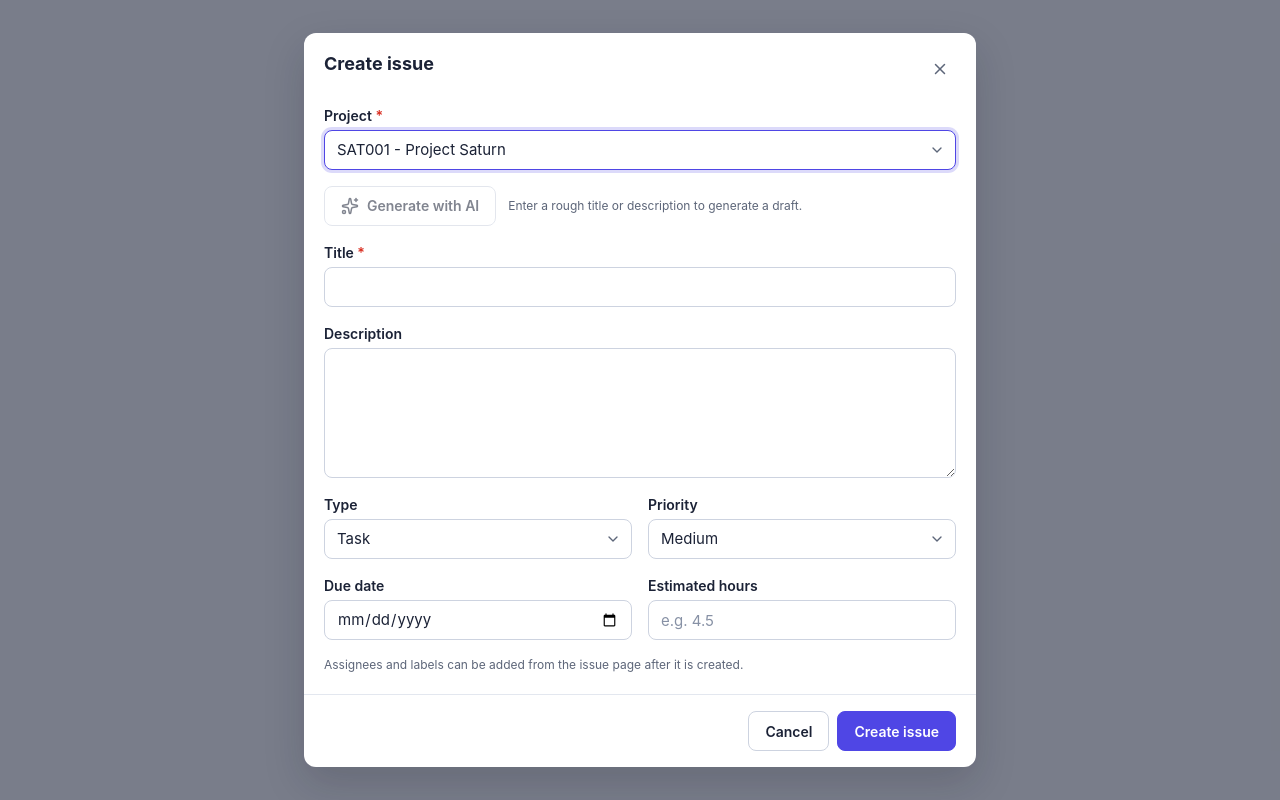
it: AI issue assistant in the create issue form › sends the selected project, title and description to the backend
Select "JUP001 - Mission Jupitor" in the dropdown labelled "Project *". click: [640, 150]
box: [324, 130, 956, 170]
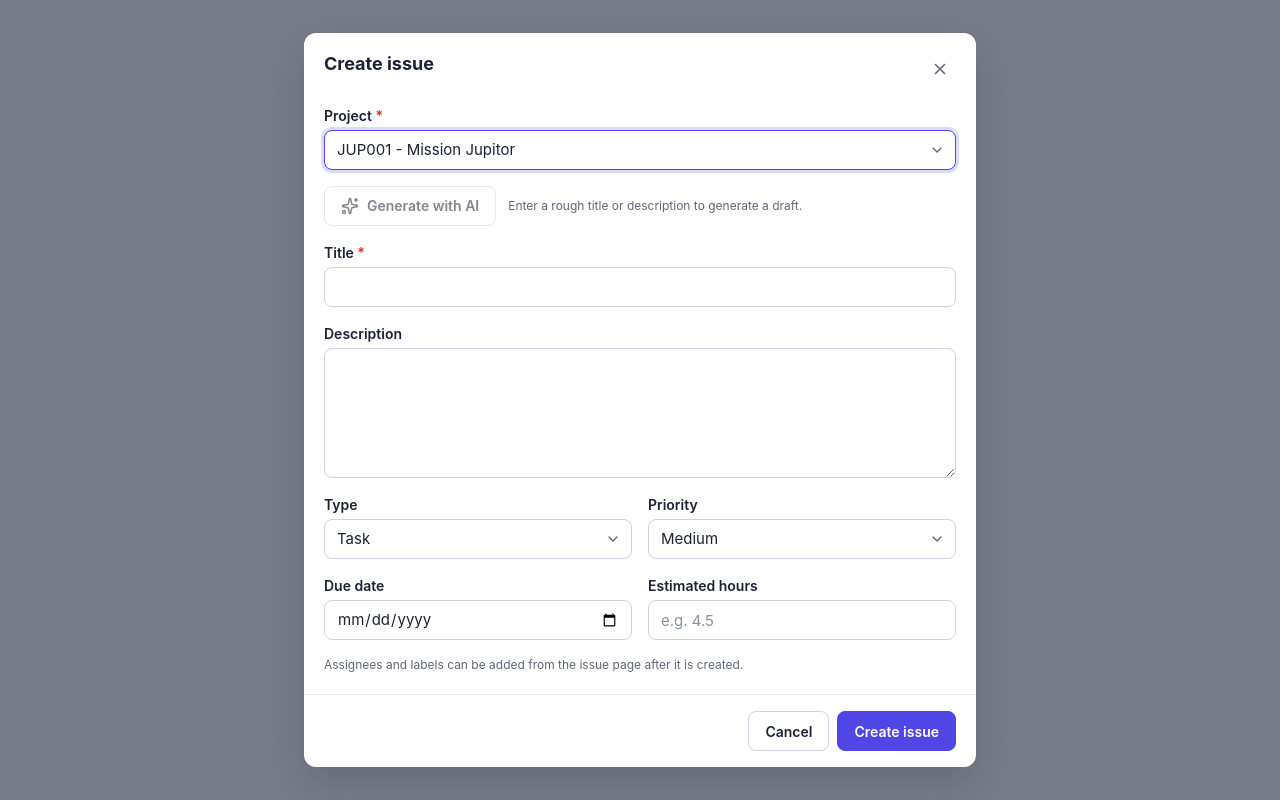
Type "Login bug" into the field labelled "Title *". click: [640, 287]
box: [324, 267, 956, 307]
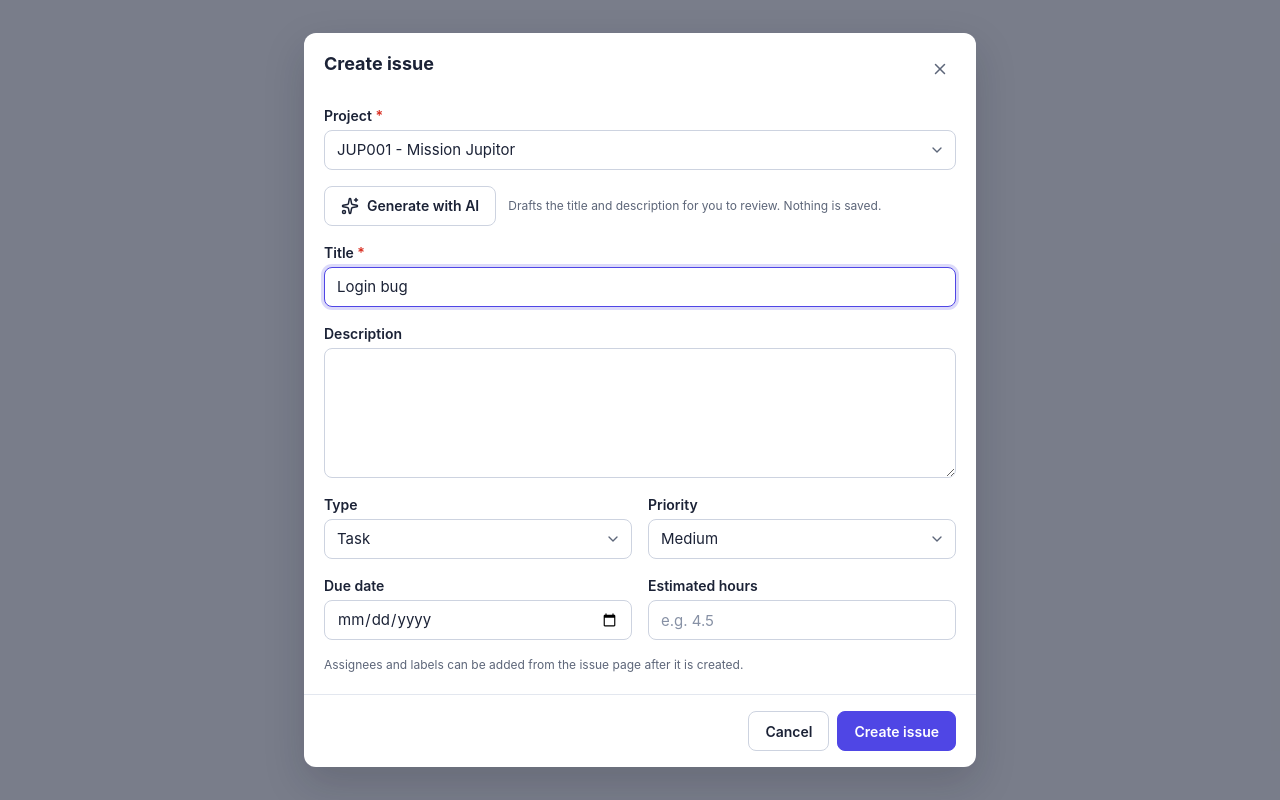
Type "login crashes" into the text box labelled "Description". click: [640, 413]
box: [324, 348, 956, 478]
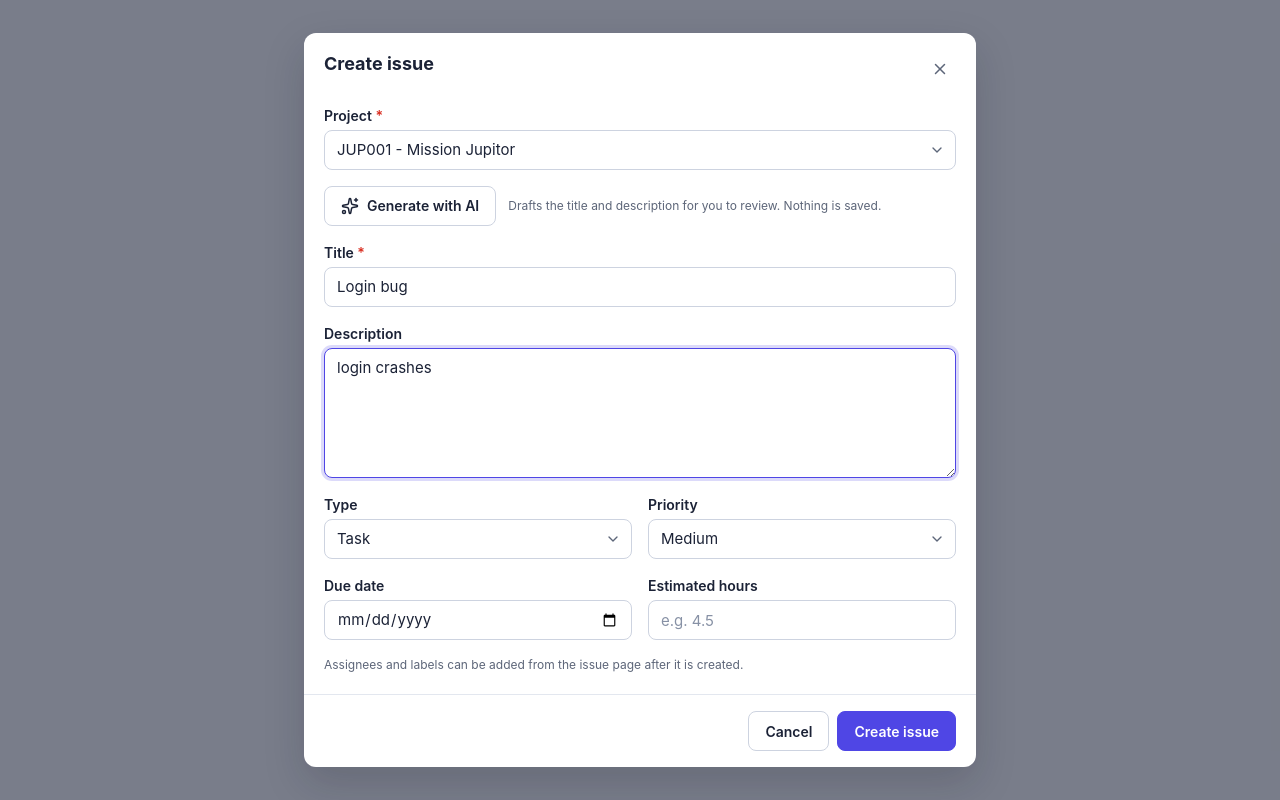
Click the button "Generate with AI". click: [410, 206]
box: [324, 186, 496, 226]
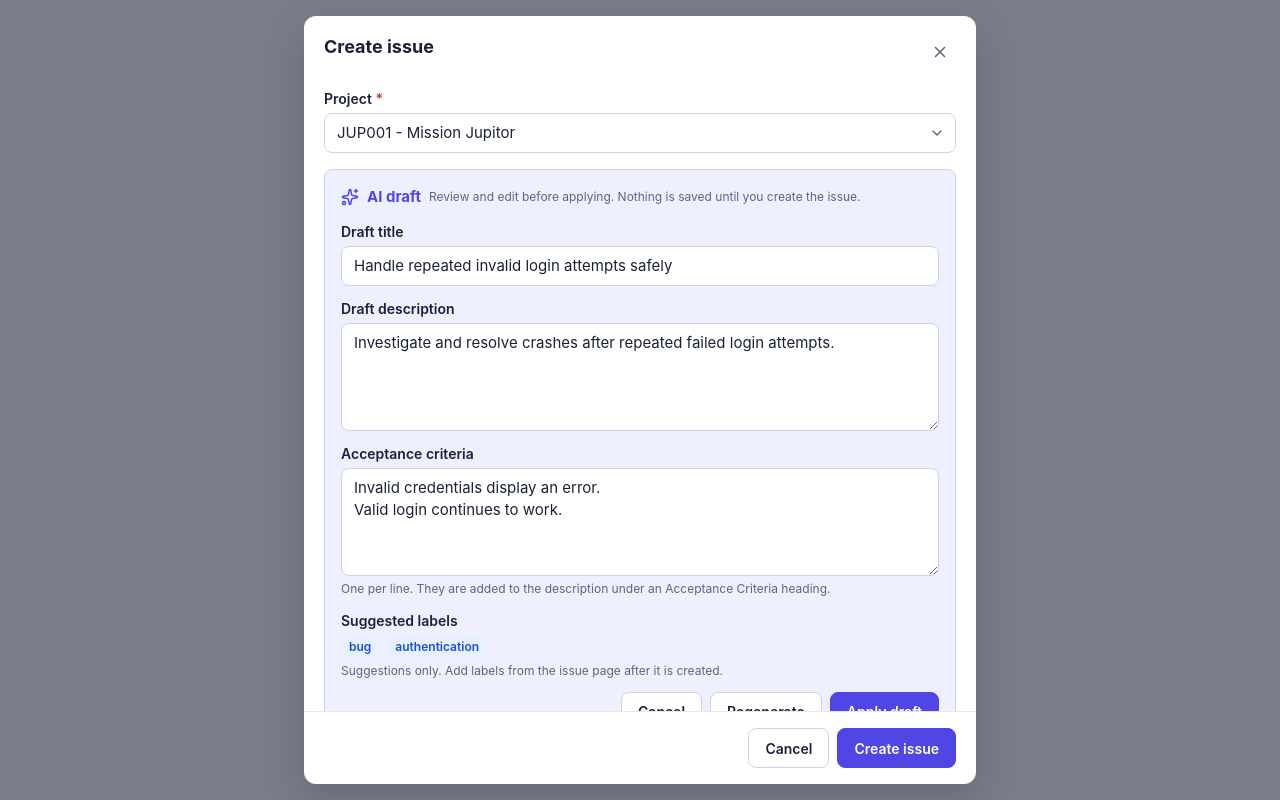
Expected: the element "AI draft Review" is shown, [324, 169, 956, 711]
